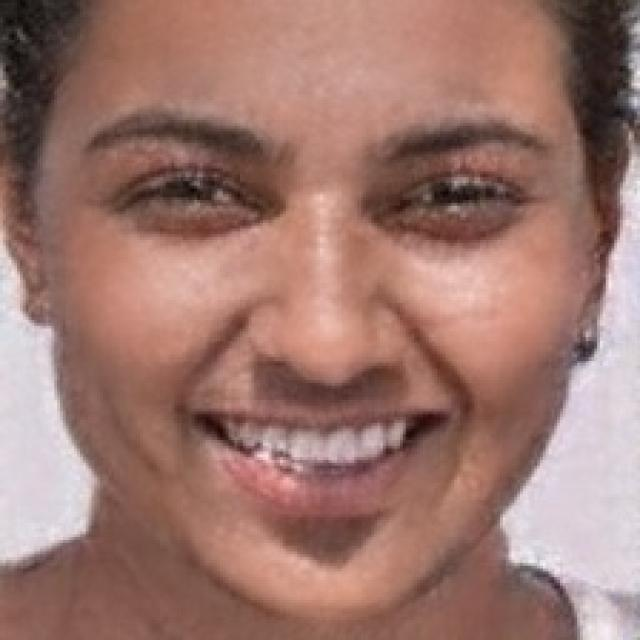safety_helmet: (2, 1, 637, 633)
